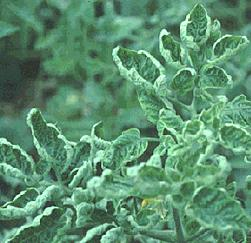Tomato leaf yellow virus: (182, 181, 251, 241), (0, 123, 47, 191), (17, 99, 62, 168), (0, 205, 79, 243), (196, 111, 251, 165), (0, 186, 70, 222), (111, 46, 170, 88), (178, 0, 213, 69), (199, 35, 251, 67), (221, 93, 251, 144)
